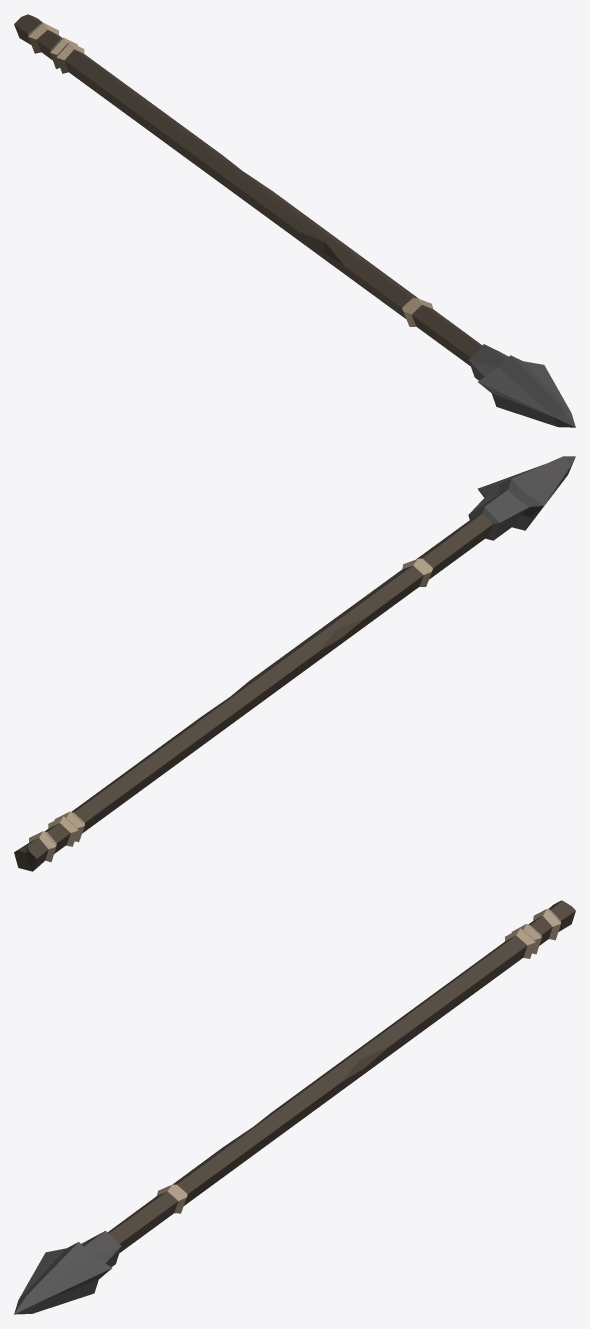
File: ballista_bolt.glb
3 renders of one model, top to bottom at view 1: azimuth 30°, elevation 25°; view 2: azimuth 150°, elevation 25°; view 3: azimuth 330°, elevation 25°, orthographic.
Parts seen in each view (by area): view 1: SM_Wep_Ballista_Projectile_01; view 2: SM_Wep_Ballista_Projectile_01; view 3: SM_Wep_Ballista_Projectile_01.
Part boxes in pixels (x1,y1,x2,y2): SM_Wep_Ballista_Projectile_01: (14, 14, 575, 427); SM_Wep_Ballista_Projectile_01: (14, 456, 575, 871); SM_Wep_Ballista_Projectile_01: (14, 900, 575, 1314).
Size of the model in its own units: 0.1658 by 0.1145 by 2.37.
Materials: 1 (1 with a texture image).
